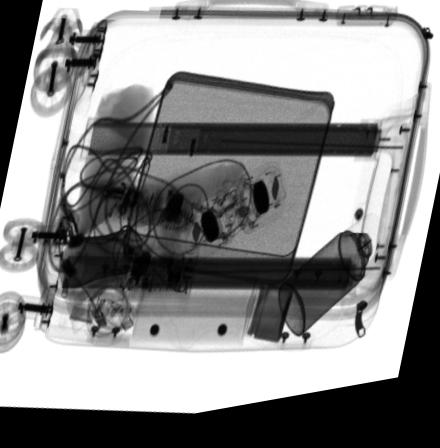Sprayer: (277, 226, 387, 345)
